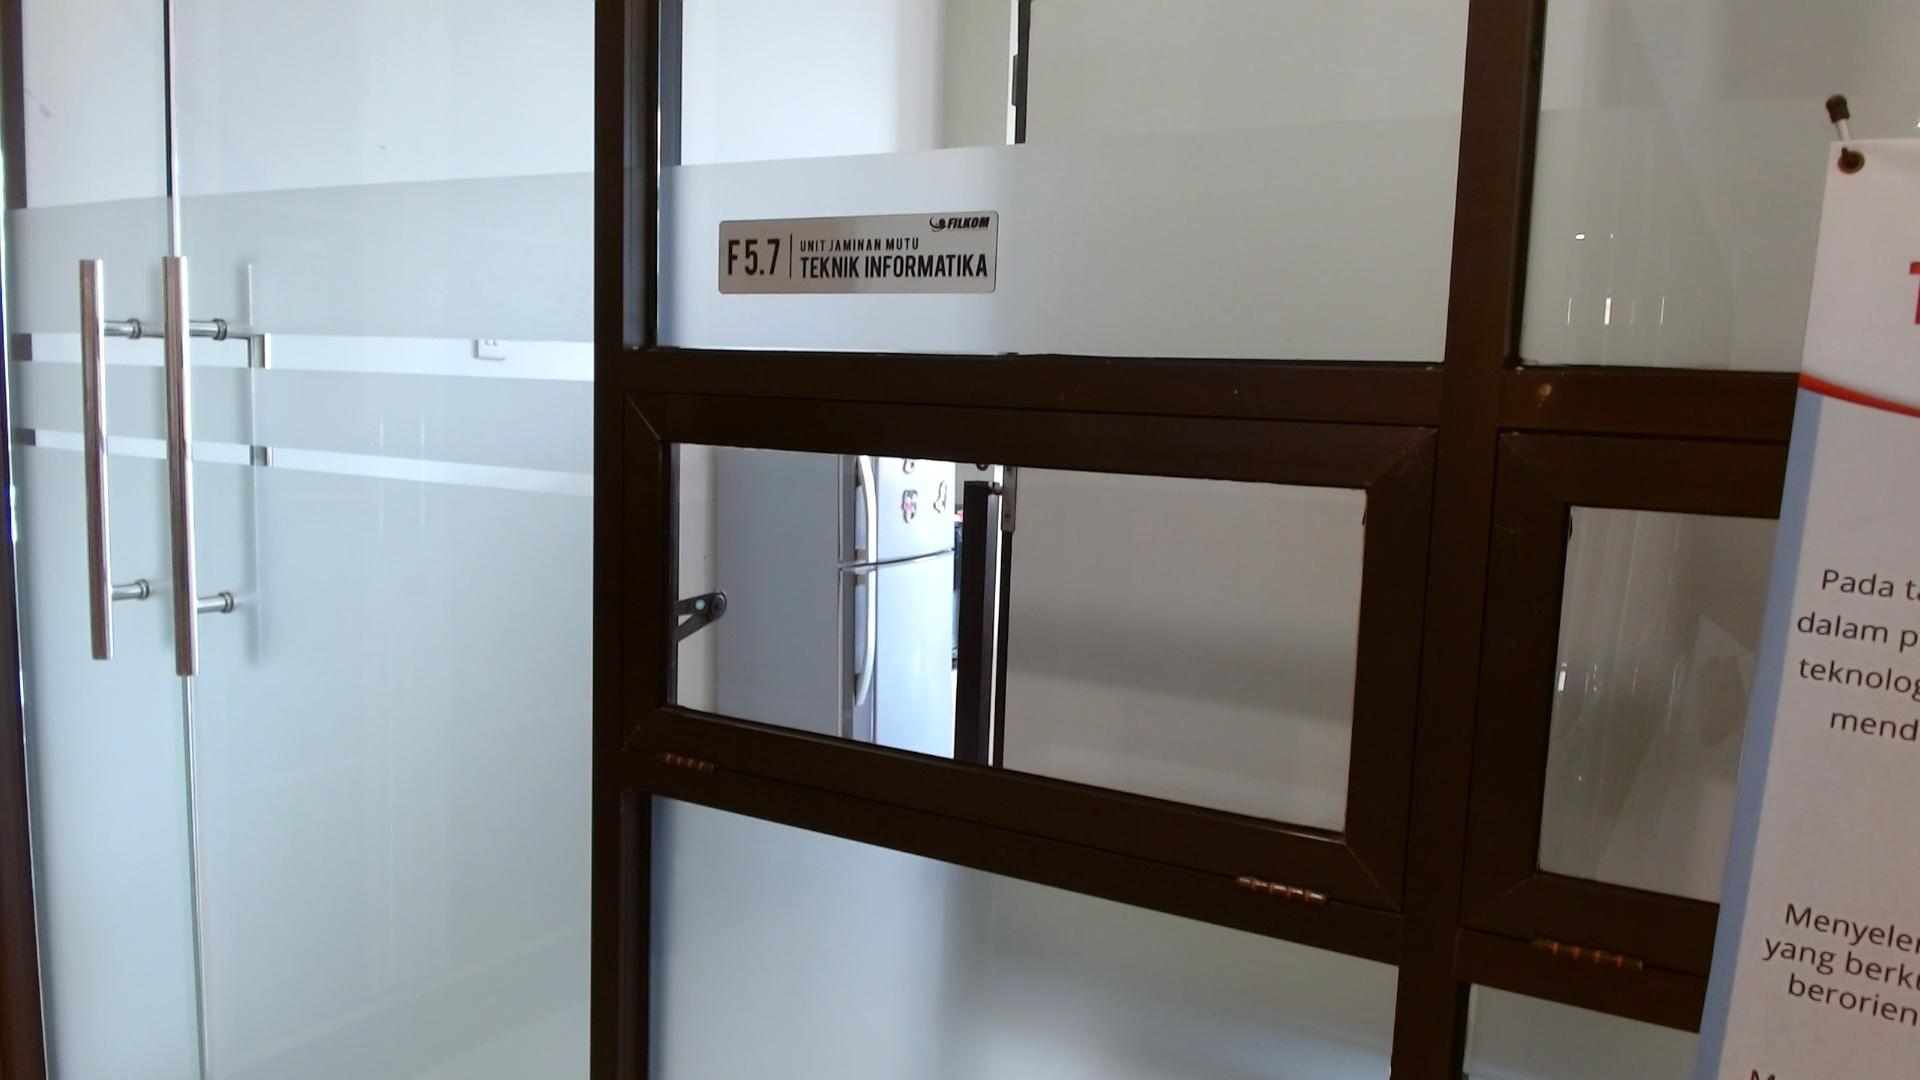plate: (719, 211, 1000, 294)
